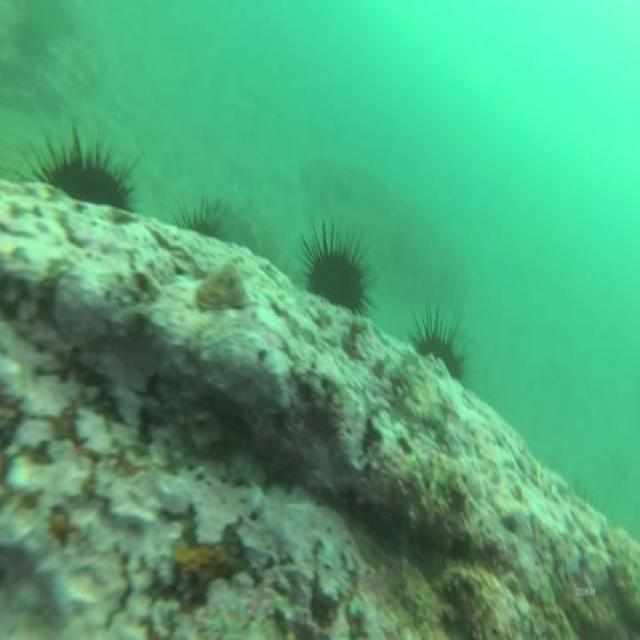echinus: (34, 141, 144, 215), (299, 226, 368, 329)
